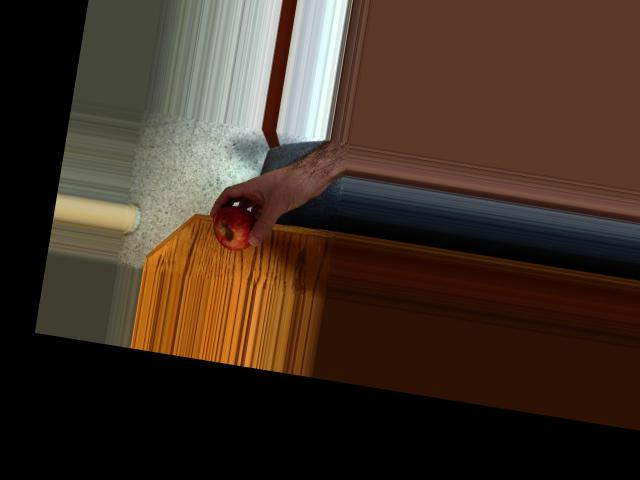apple: (209, 201, 265, 254)
